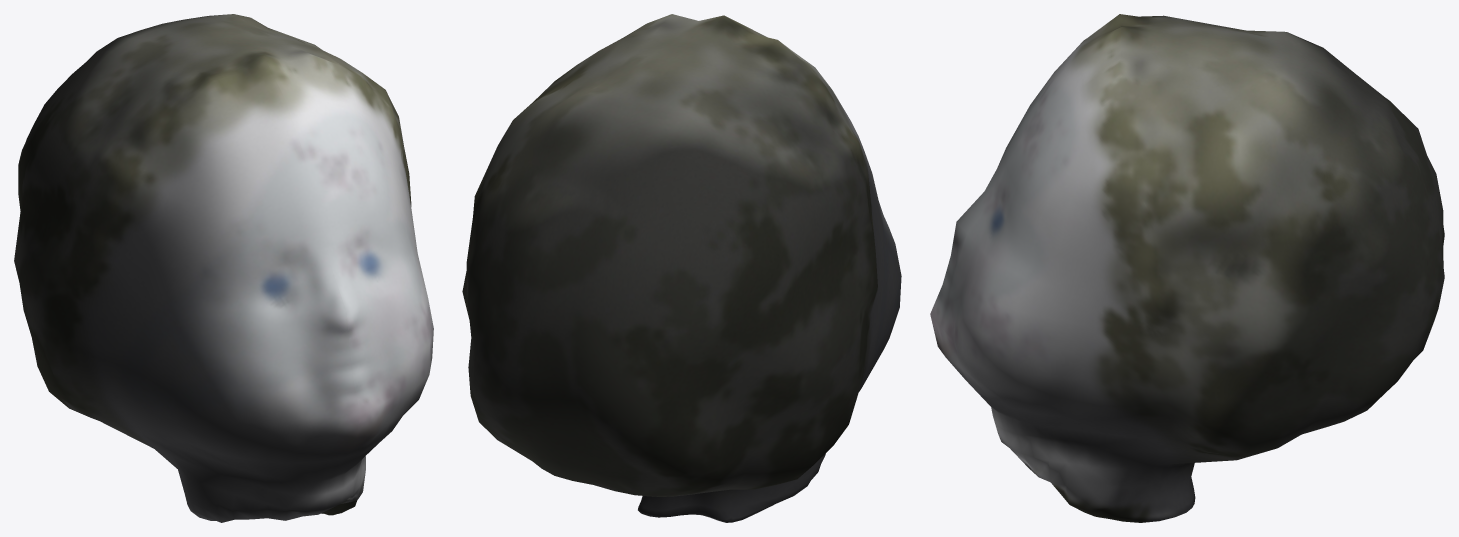
Rendered from Doll.FBX.
3 renders of one model, left to right at view 1: azimuth 30°, elevation 25°; view 2: azimuth 150°, elevation 25°; view 3: azimuth 270°, elevation 25°, orthographic. The views are drawn at different scales.
Visible parts, largest first — view 1: LoPolyVersion; view 2: LoPolyVersion; view 3: LoPolyVersion.
Part boxes in pixels (left/top/right/bottom): LoPolyVersion: left=14, top=14, right=433, bottom=522; LoPolyVersion: left=462, top=14, right=901, bottom=522; LoPolyVersion: left=930, top=14, right=1444, bottom=522.
Size of the model in its own units: 94.18 by 121 by 120.
Materials: 1 (1 with a texture image).
